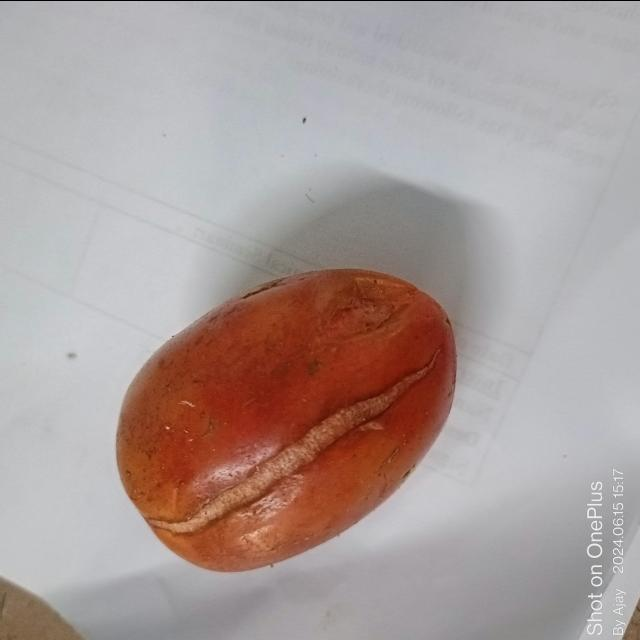tomato_cracking: (139, 347, 443, 538)
